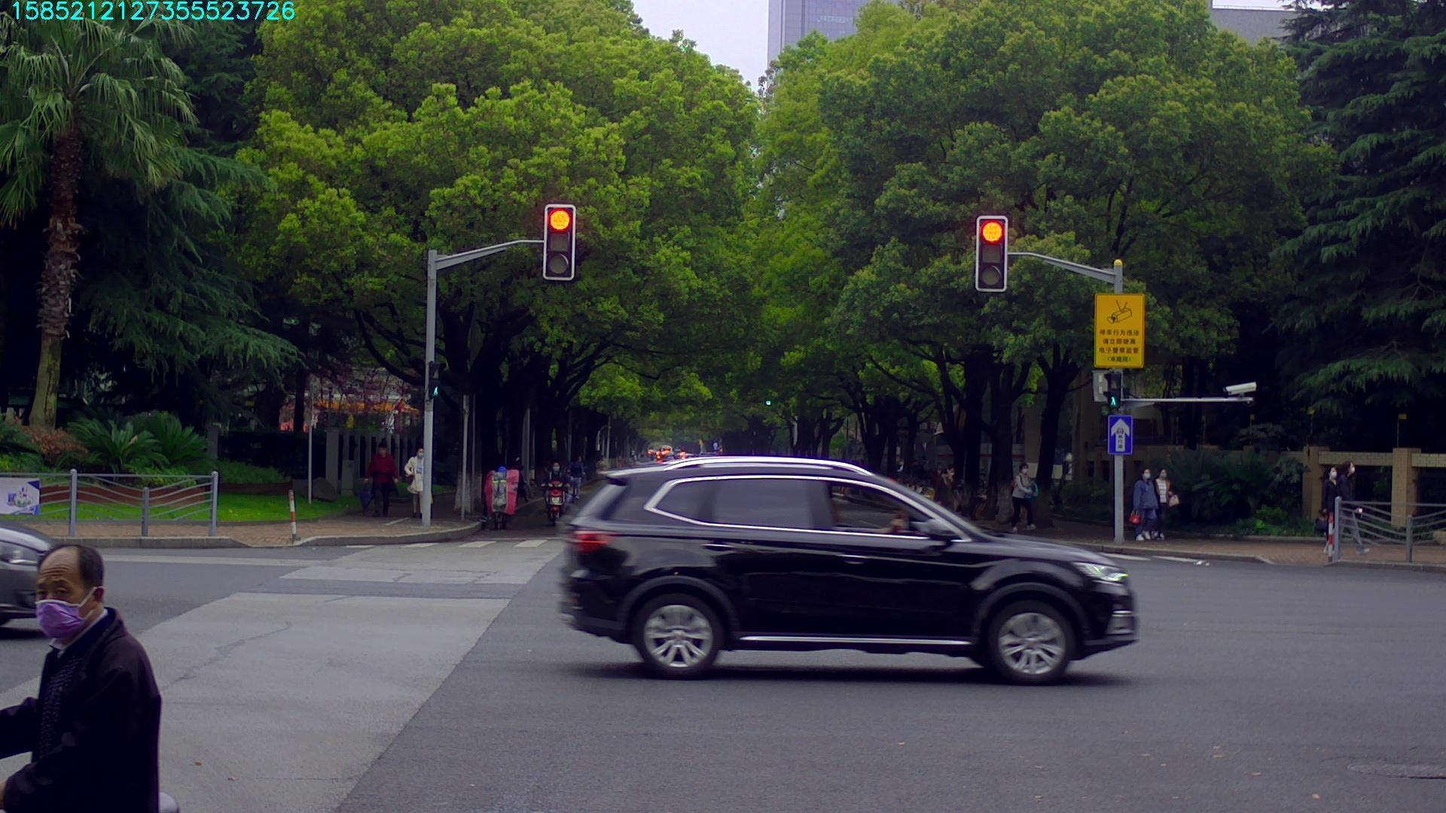red: (977, 217, 1005, 290), (545, 206, 572, 278)
